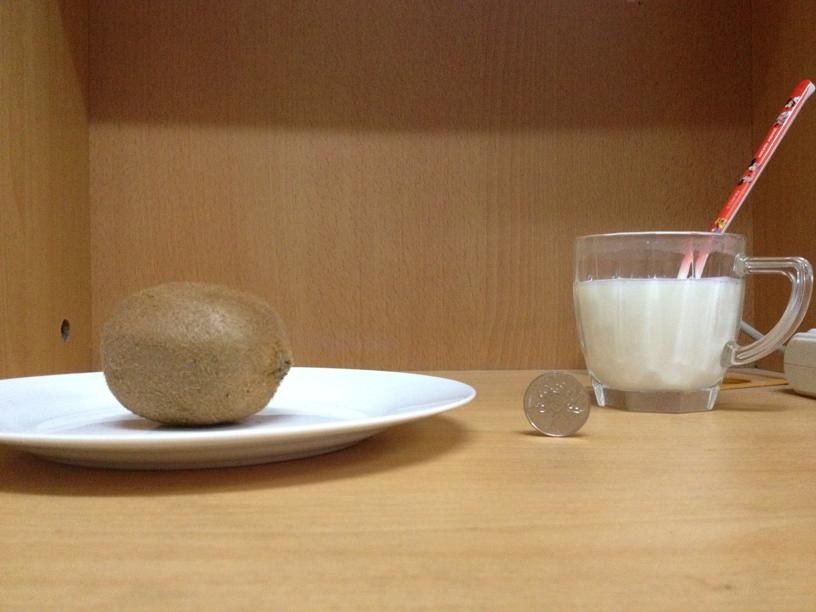coin: (522, 370, 590, 436)
qiwi: (96, 281, 292, 426)
